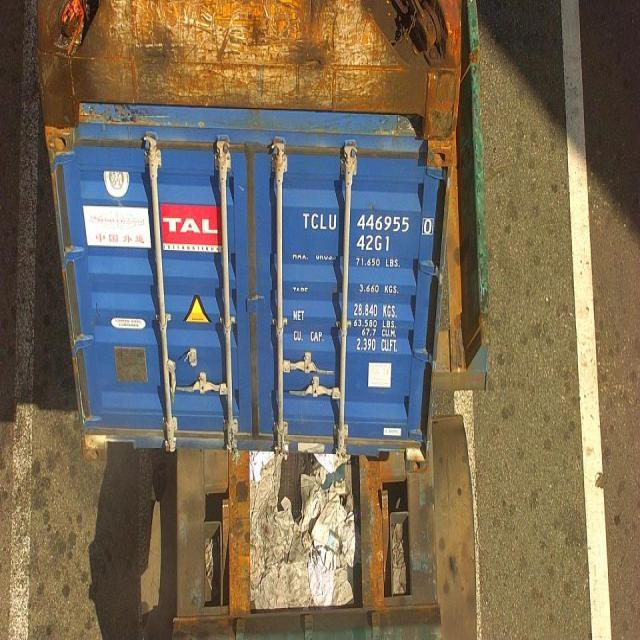ISO: (356, 236, 391, 252)
container_number: (303, 213, 430, 235)
